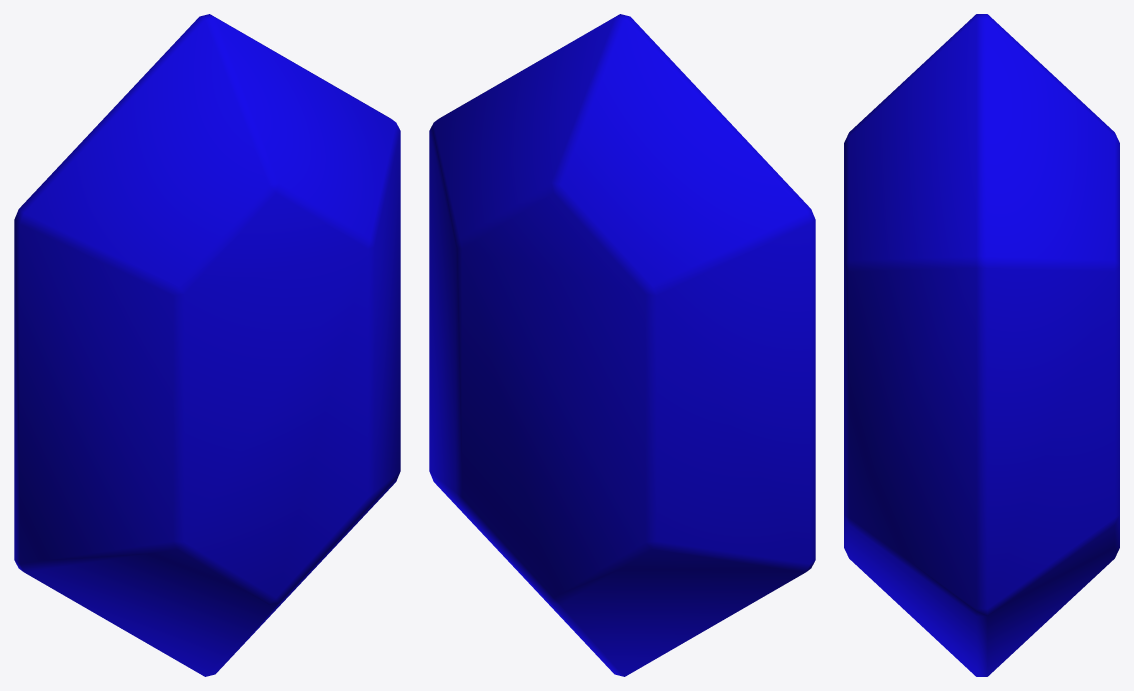
File: TeleportGem.fbx
3 views of the same model, side by side, from view 1: azimuth 30°, elevation 25°; view 2: azimuth 150°, elevation 25°; view 3: azimuth 270°, elevation 25° (orthographic).
Visible parts, largest first — view 1: rupee_reference; view 2: rupee_reference; view 3: rupee_reference.
Part boxes in pixels (x1=…): rupee_reference: x1=14, y1=14, x2=400, y2=676; rupee_reference: x1=429, y1=14, x2=815, y2=676; rupee_reference: x1=844, y1=14, x2=1119, y2=676.
Bounding box in the file's own units: 414 × 683 × 259.
